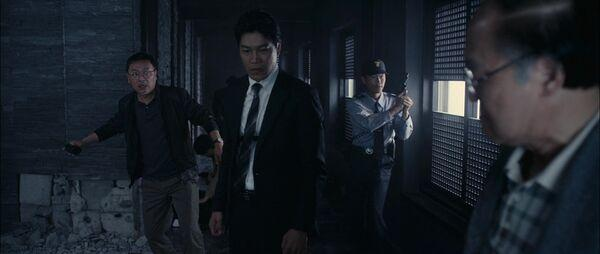Gun: (400, 73, 411, 97)
